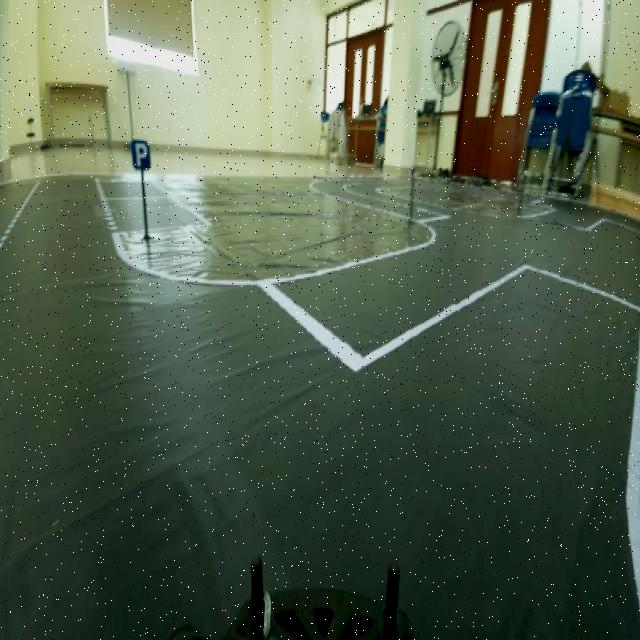parking: (130, 132, 152, 180)
